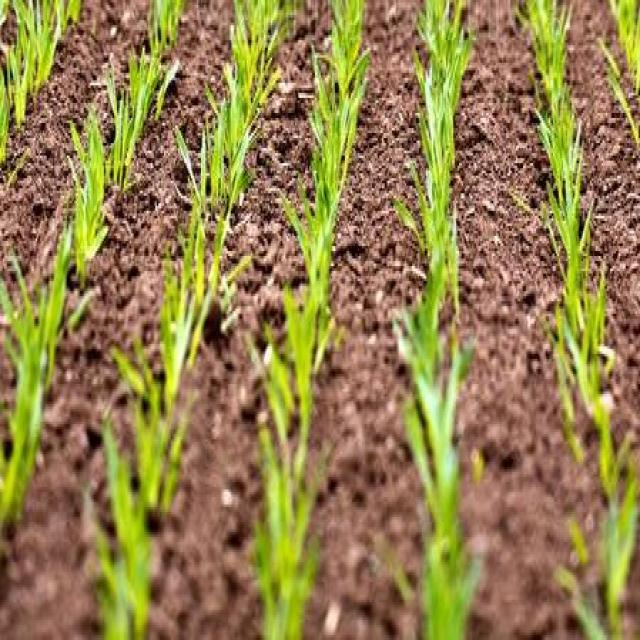row: (0, 0, 241, 639), (149, 0, 335, 639), (460, 0, 600, 640), (302, 0, 428, 639), (0, 0, 150, 403), (562, 0, 640, 640)
